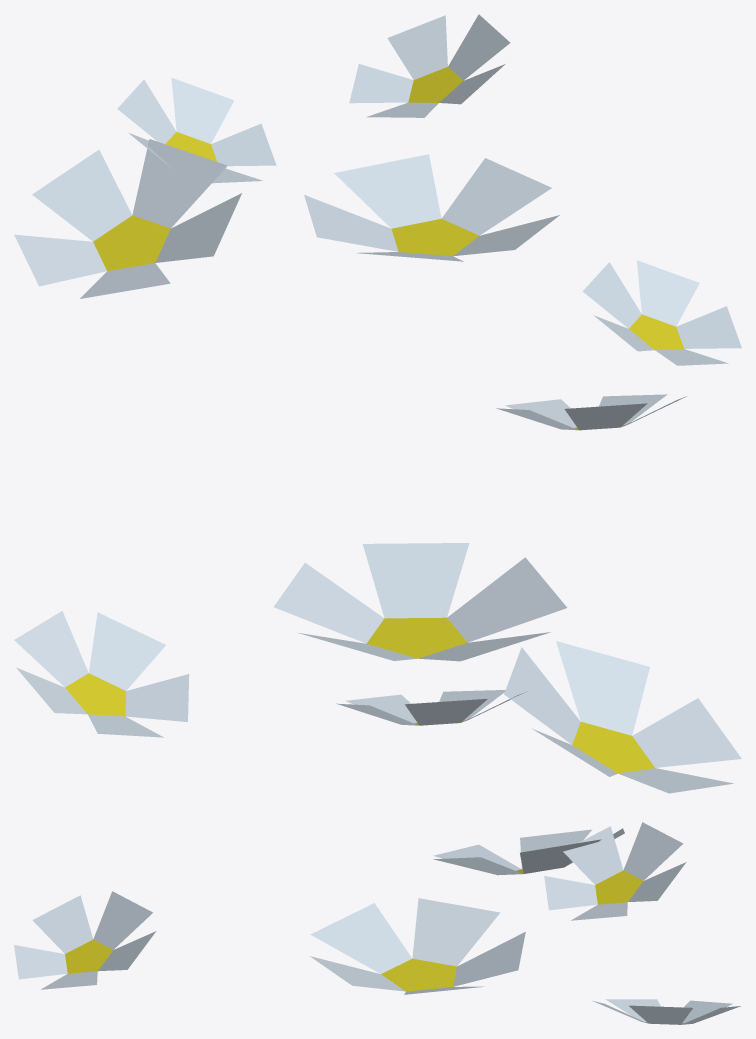
The model's file is Flower_3.fbx.
3 renders of one model, top to bottom at view 1: azimuth 30°, elevation 25°; view 2: azimuth 150°, elevation 25°; view 3: azimuth 270°, elevation 25°, orthographic. The views are drawn at different scales.
Visible parts, largest first — view 1: Flower_3; view 2: Flower_3; view 3: Flower_3.
Boxes of the visible parts, bbox=[...] form: Flower_3: bbox=[14, 14, 741, 365]; Flower_3: bbox=[14, 394, 741, 793]; Flower_3: bbox=[14, 822, 740, 1024].
Size of the model in its own units: 81.18 by 13.33 by 109.
